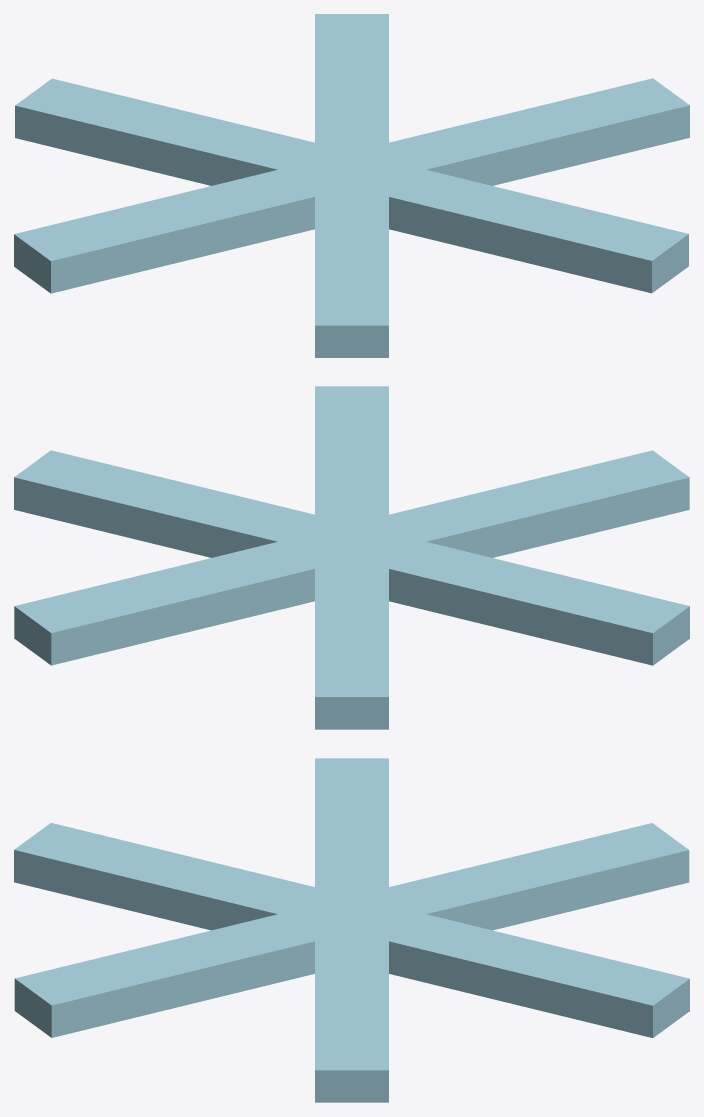
The model's file is snowflake.fbx.
3 views of the same model, one above another, from view 1: azimuth 30°, elevation 25°; view 2: azimuth 150°, elevation 25°; view 3: azimuth 270°, elevation 25° (orthographic).
Parts seen in each view (by area): view 1: SnowFlake; view 2: SnowFlake; view 3: SnowFlake.
Part boxes in pixels (box(x1,y1,x2,y2)): SnowFlake: box(14, 14, 689, 357); SnowFlake: box(14, 386, 689, 729); SnowFlake: box(14, 758, 689, 1102).
Size of the model in its own units: 3.3 by 0.1603 by 3.02.
